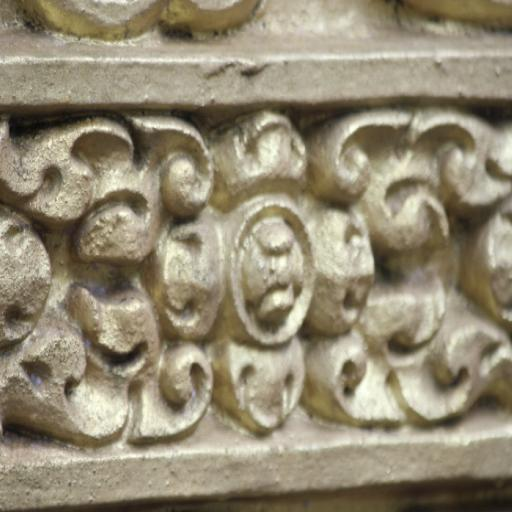hoa: (158, 126, 391, 434), (0, 123, 159, 439), (395, 124, 512, 439)
